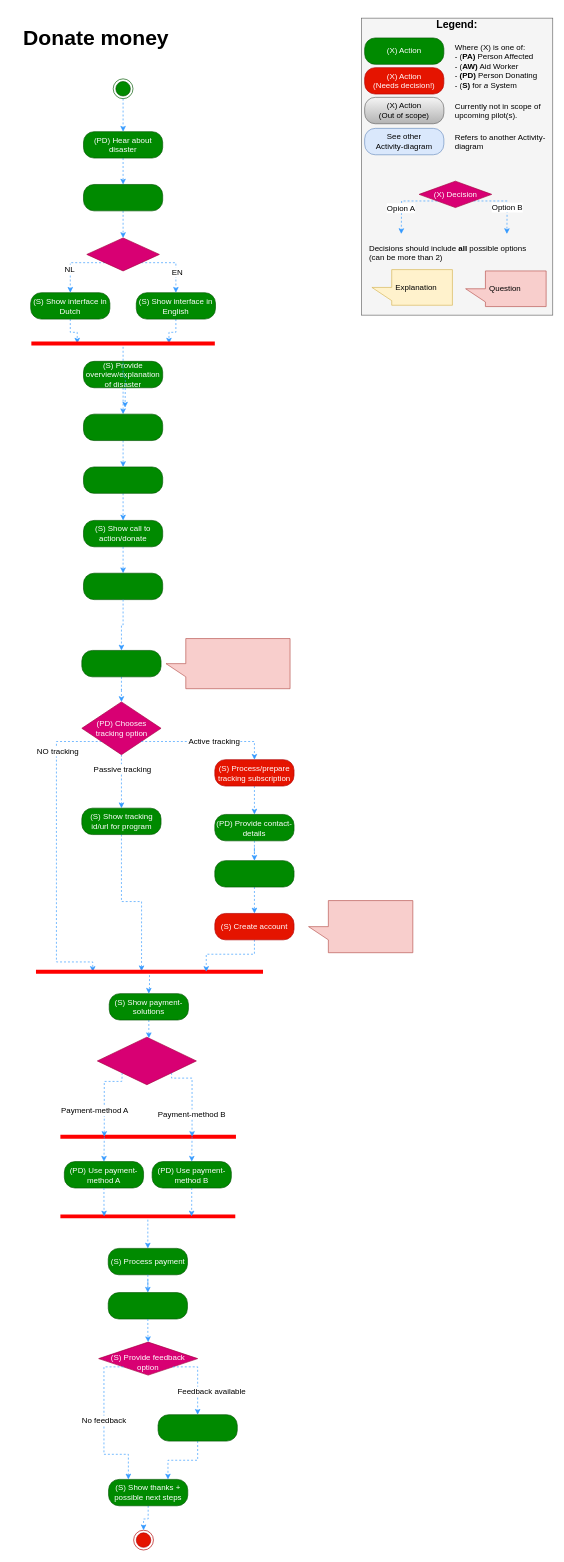
Some shapes in this 564 by 1562 pixel diagram are drawn without their labels. The centre of each missing label's shape, as x and y in pixels:
(PD) Access HO landing-page: point 123,197
(PD) Confirm consent for using contact-data: point 254,873
(PD) Decides to donate: point 123,586
(PD) Provide feedback: point 197,1427
(PD) Select language: point 122,254
(PD) Select payment-solution: point 146,1061
(S) Provide information about HO: point 123,427
(S) Provide outline of program-goal(s): point 123,479
(S) Show result of donation/payment: point 147,1305
(S) Show tracking options: point 121,663
Decision needed about optimal order of steps: Tracking or Donation first?: point 227,663
Do Institutional donors need a different account?: point 360,926
